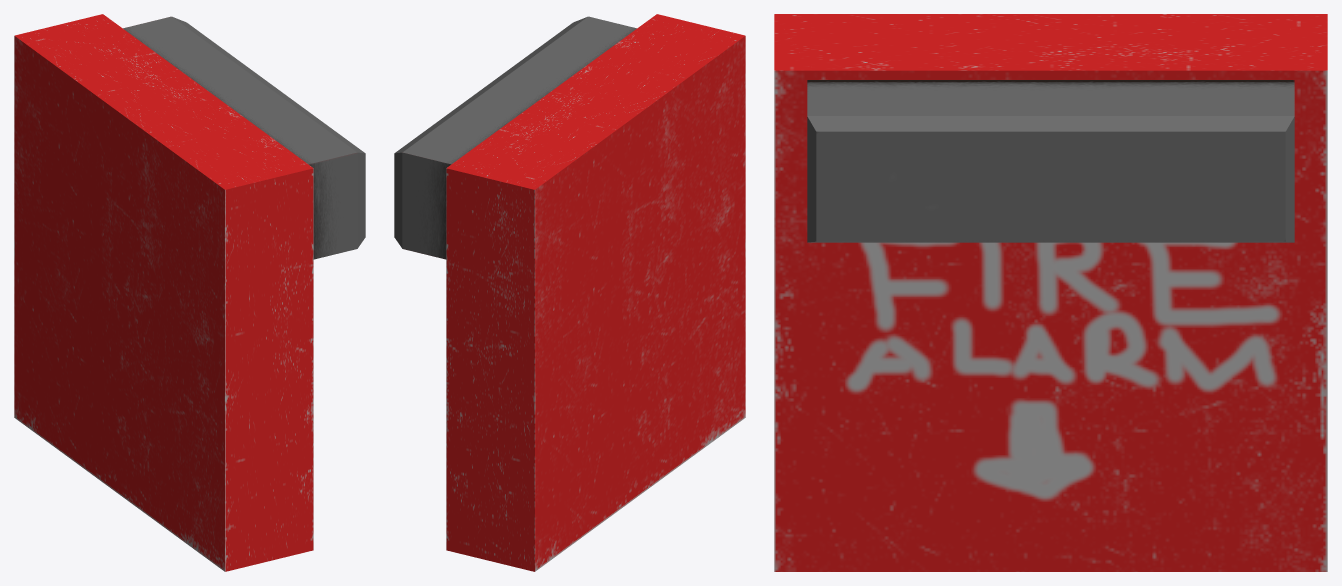
The model's file is firealarm.fbx.
3 views of the same model, side by side, from view 1: azimuth 30°, elevation 25°; view 2: azimuth 150°, elevation 25°; view 3: azimuth 270°, elevation 25° (orthographic). The views are drawn at different scales.
Visible parts, largest first — view 1: Fire_Alarm; view 2: Fire_Alarm; view 3: Fire_Alarm.
Boxes of the visible parts, box(x1,y1,x2,y2) form: Fire_Alarm: box(14, 14, 365, 571); Fire_Alarm: box(394, 14, 745, 571); Fire_Alarm: box(774, 14, 1327, 571).
Size of the model in its own units: 97.58 by 228 by 228.
Materials: 1 (1 with a texture image).
